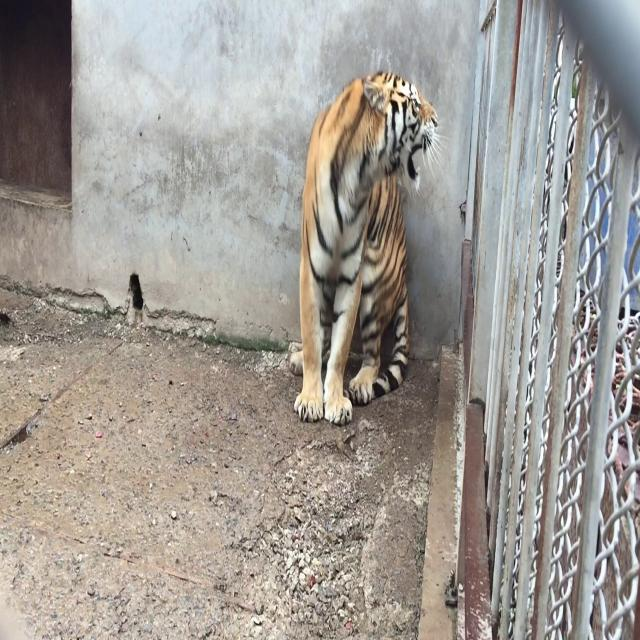Tiger: (291, 63, 438, 428)
